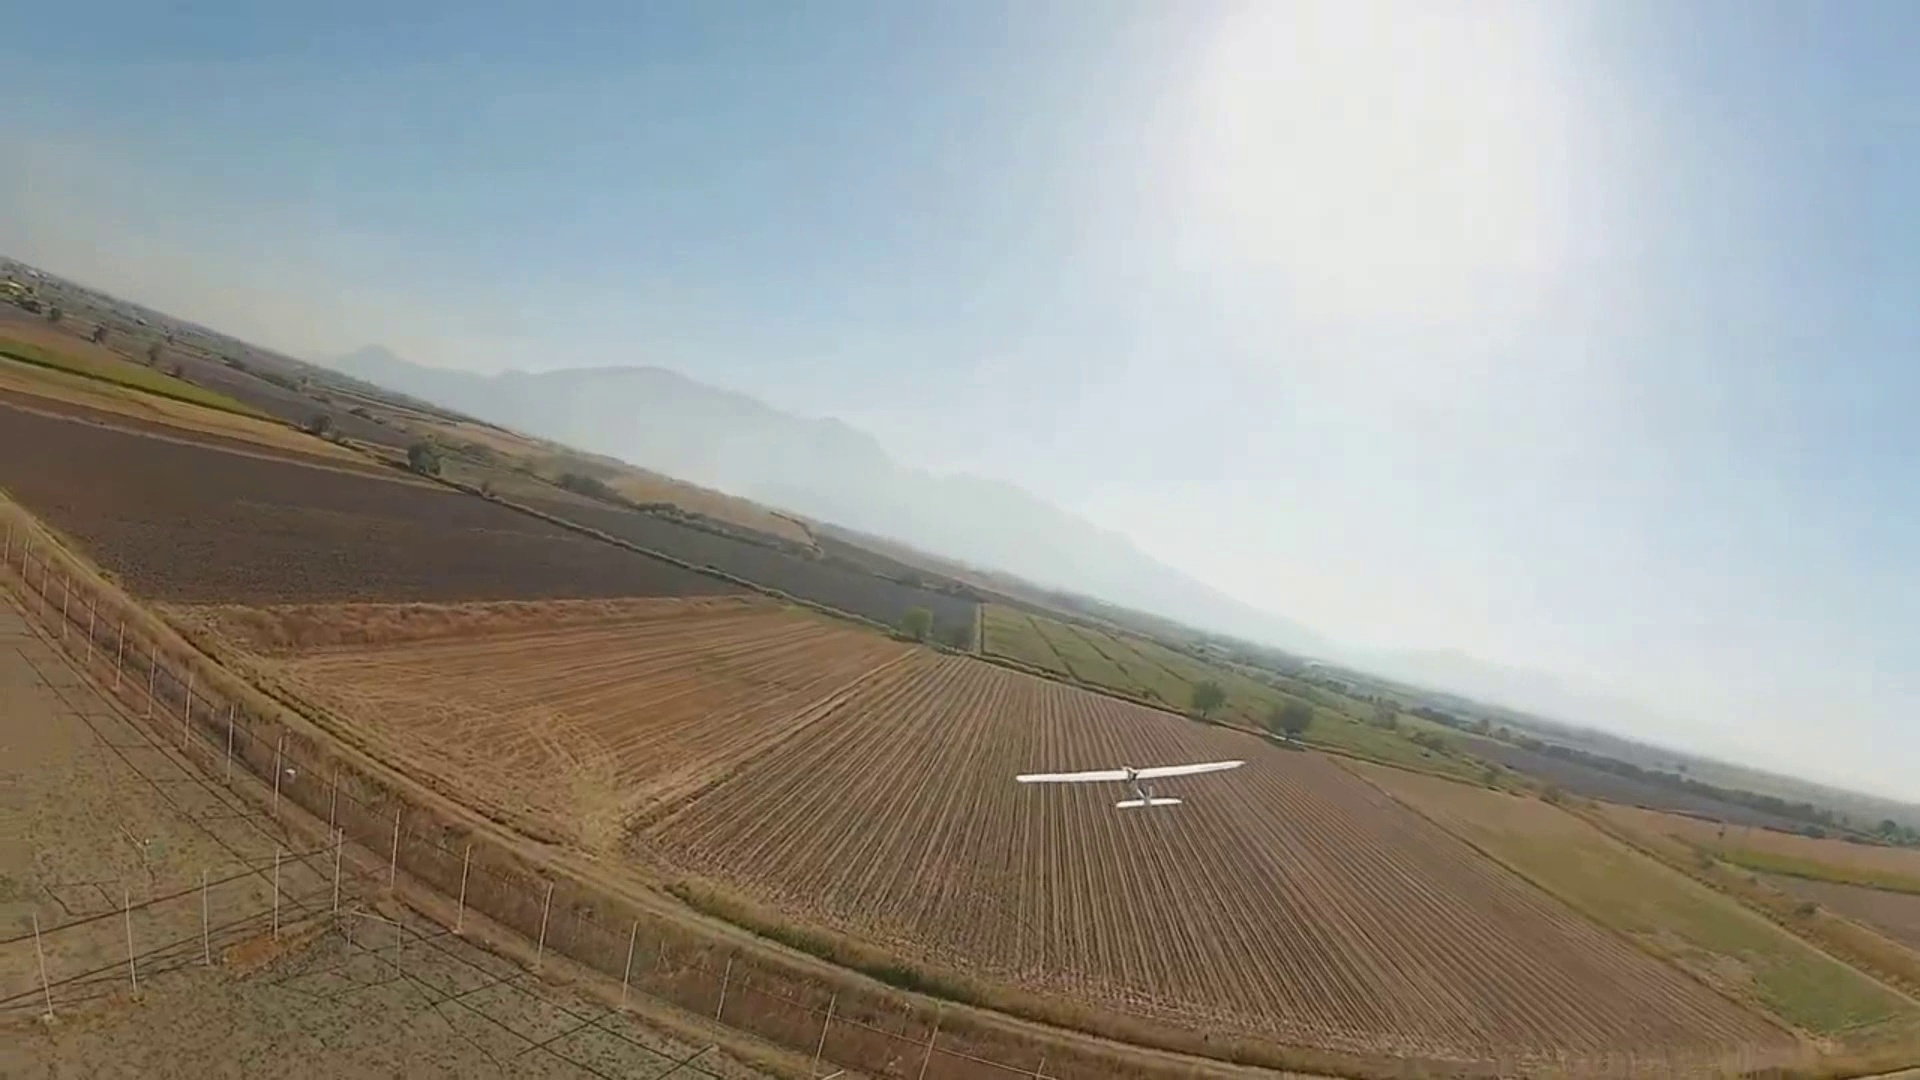airplane: (1, 245, 1909, 804)
